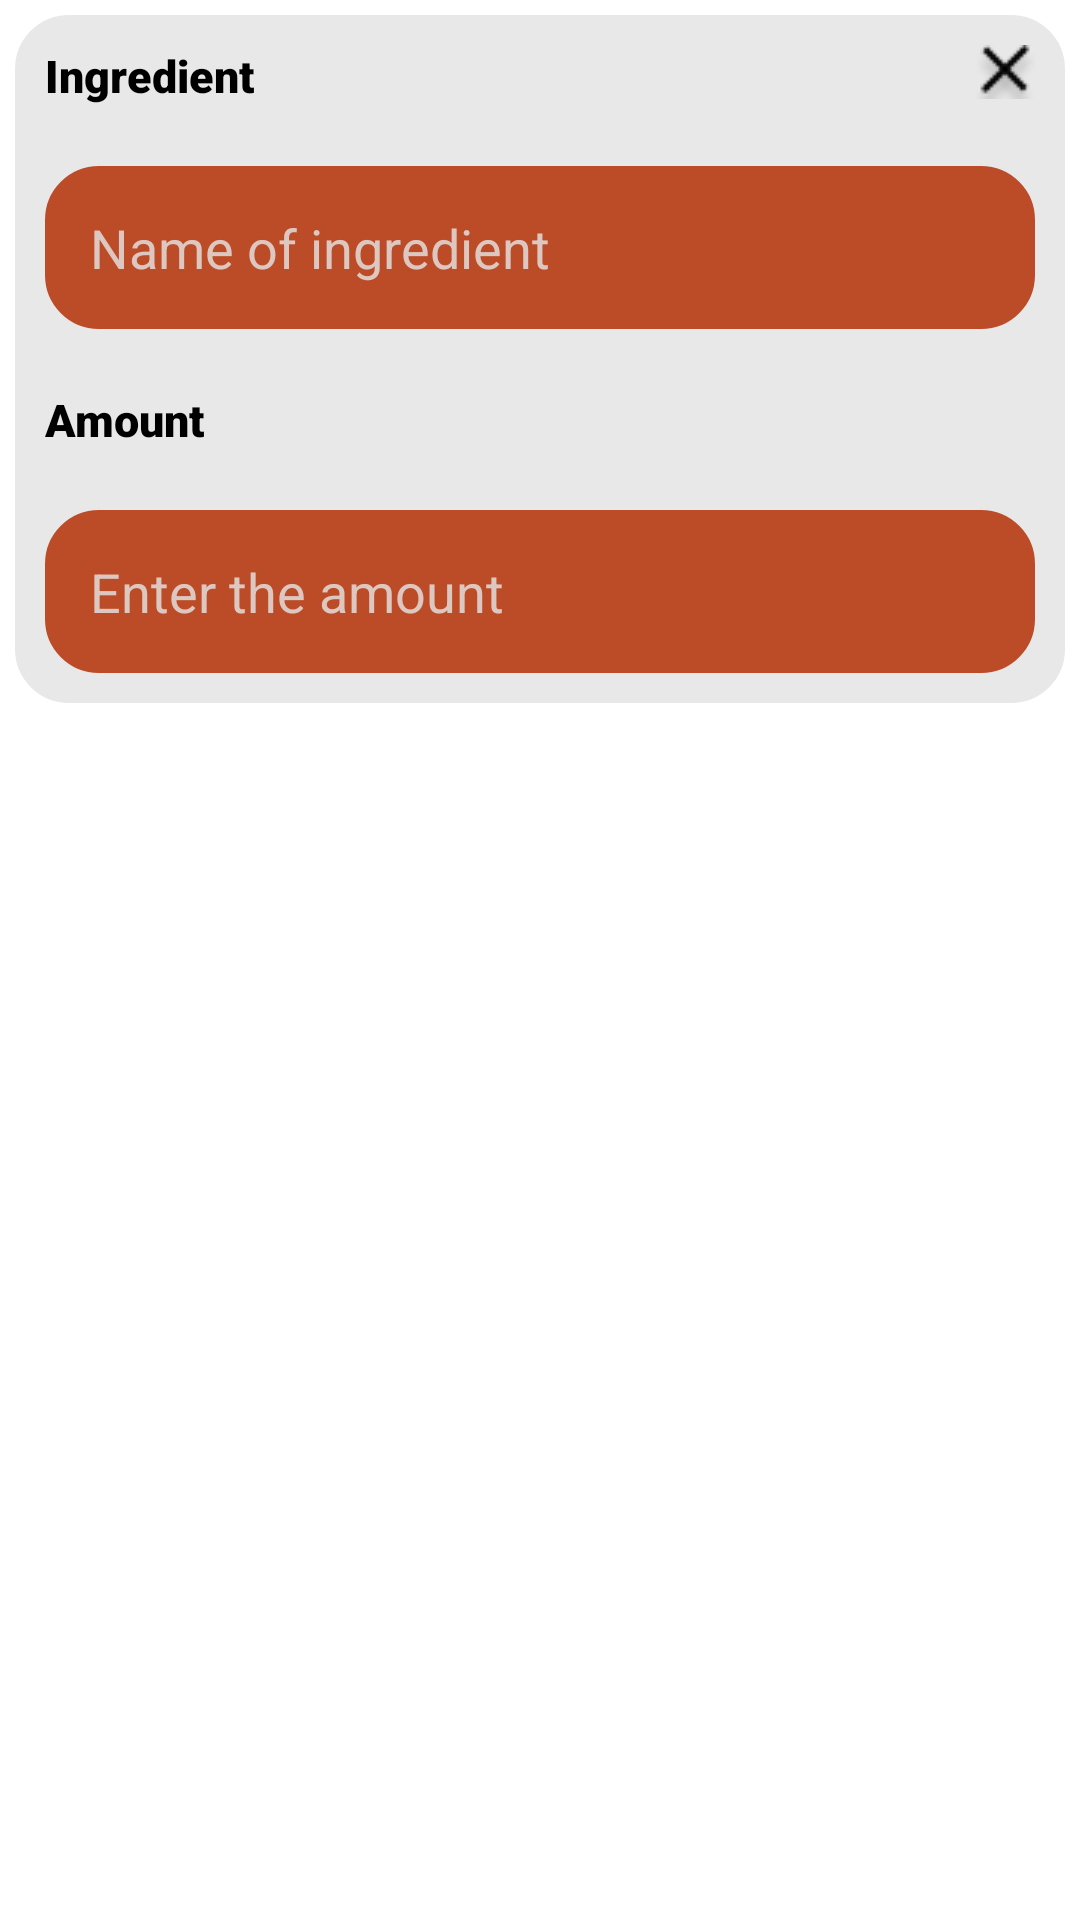

Icon bounding boxes for this 1080×1920 phone screenshot, format box=[x1, y1, x2, y2]:
cross: box=[980, 45, 1030, 95]
